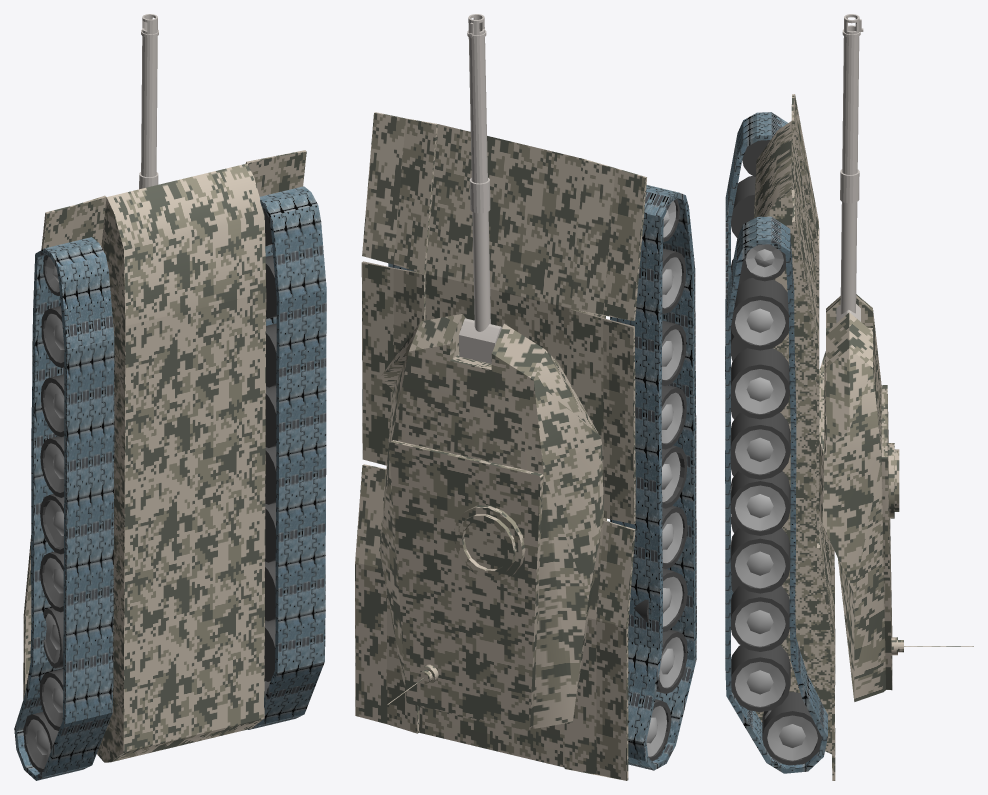
Rendered from tank_1.fbx.
The picture shows the model from 3 angles, left to right: view 1: azimuth 30°, elevation 25°; view 2: azimuth 150°, elevation 25°; view 3: azimuth 270°, elevation 25°; orthographic projection. The views are drawn at different scales.
Parts seen in each view (by area): view 1: body, track.001, track, barrel, wheel_9.001, wheel_4.001, wheel_3.001, wheel_8.001, wheel_6.001, wheel_5.001, wheel_2.001, wheel_7.001 (+7 smaller); view 2: body, turret, track.001, barrel, wheel_8.001, wheel_7.001, wheel_4.001, wheel_6.001, wheel_3.001, wheel_5.001, wheel_2.001, wheel_9.001; view 3: turret, body, track, barrel, wheel_3, wheel_2, wheel_4, wheel_8, wheel_6, wheel_7, wheel_5, wheel_9 (+4 smaller).
Part boxes in pixels (x1,y1,x2,y2): body: [23, 150, 306, 762]; track.001: [14, 237, 114, 780]; track: [248, 186, 326, 729]; barrel: [139, 14, 158, 189]; wheel_9.001: [23, 712, 58, 772]; wheel_4.001: [40, 436, 64, 497]; wheel_3.001: [41, 374, 64, 437]; wheel_8.001: [39, 669, 63, 730]; wheel_6.001: [40, 551, 63, 612]; wheel_5.001: [40, 494, 64, 554]; wheel_2.001: [41, 306, 64, 367]; wheel_7.001: [43, 607, 63, 668]; body: [355, 112, 646, 780]; turret: [380, 314, 603, 730]; track.001: [610, 185, 696, 770]; barrel: [459, 14, 501, 363]; wheel_8.001: [657, 629, 687, 693]; wheel_7.001: [634, 568, 687, 632]; wheel_4.001: [661, 385, 686, 449]; wheel_6.001: [662, 506, 687, 569]; wheel_3.001: [662, 320, 686, 385]; wheel_5.001: [662, 445, 686, 508]; wheel_2.001: [662, 248, 685, 313]; wheel_9.001: [646, 699, 671, 761]; turret: [819, 294, 973, 701]; body: [754, 94, 835, 780]; track: [725, 216, 827, 773]; barrel: [836, 14, 863, 322]; wheel_3: [731, 348, 789, 419]; wheel_2: [731, 278, 788, 350]; wheel_4: [730, 412, 790, 479]; wheel_8: [731, 645, 790, 712]; wheel_6: [730, 528, 790, 593]; wheel_7: [731, 586, 789, 651]; wheel_5: [730, 471, 790, 535]; wheel_9: [762, 692, 821, 765].
Bounding box in the file's own units: 262 × 646 × 206.
